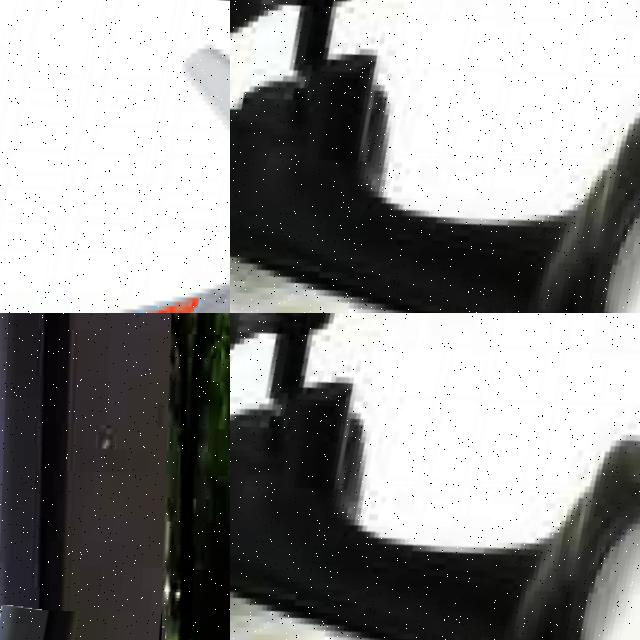drone: (230, 313, 640, 640), (230, 0, 640, 313), (0, 0, 230, 313)
